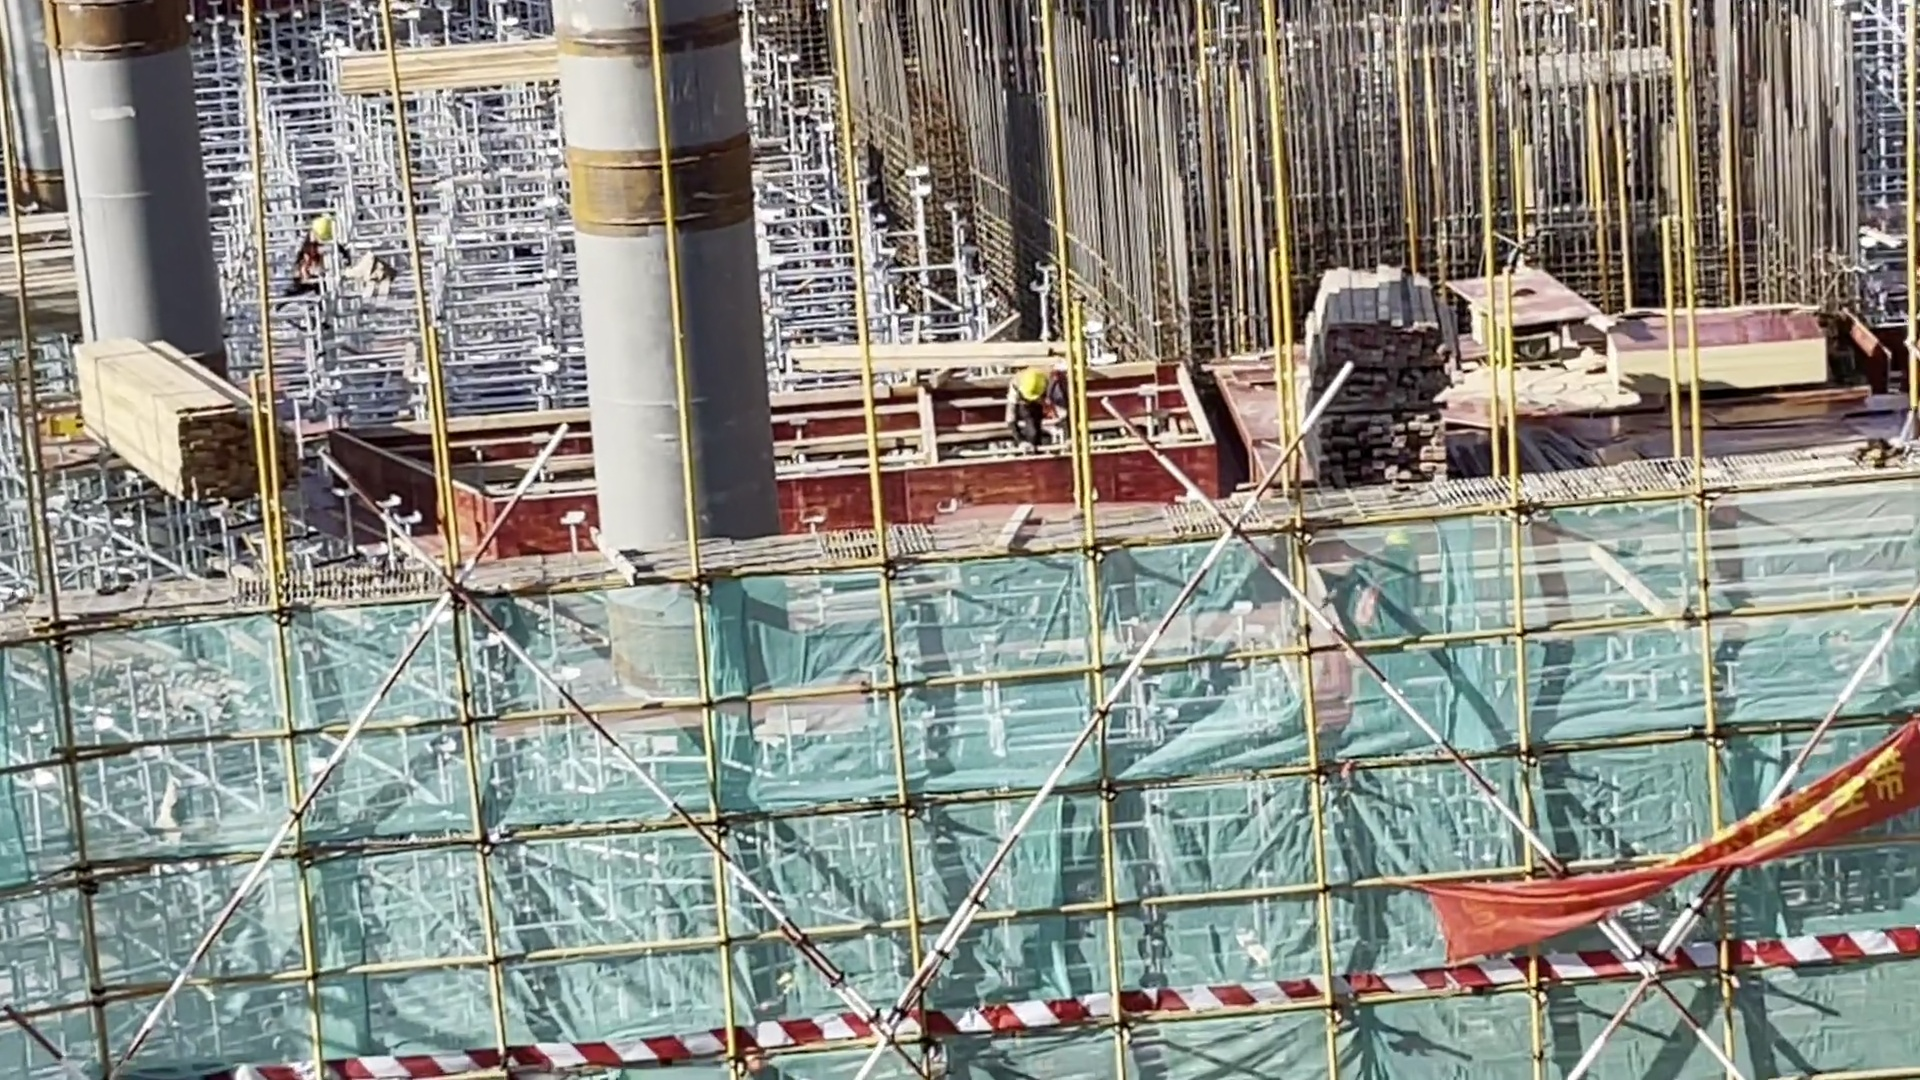helmet: (1017, 363, 1052, 405)
person: (992, 368, 1080, 454)
slogan: (1413, 698, 1920, 998)
wood: (1295, 253, 1475, 494)
